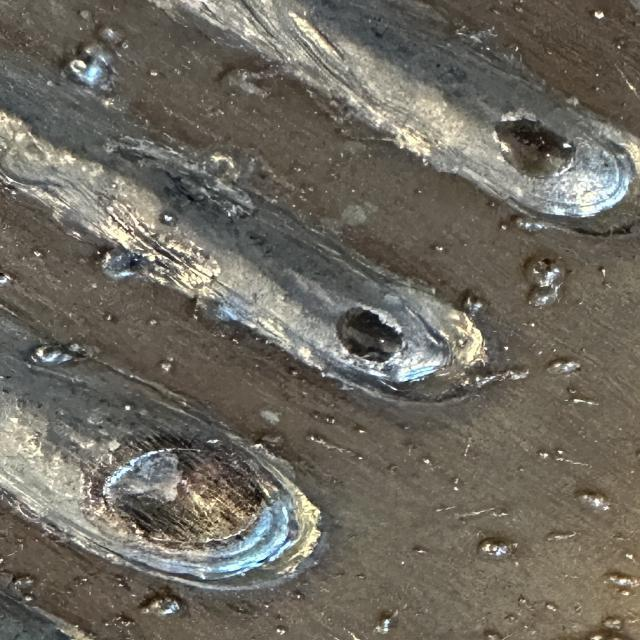Spatters: (0, 558, 5, 566), (98, 250, 104, 256)
